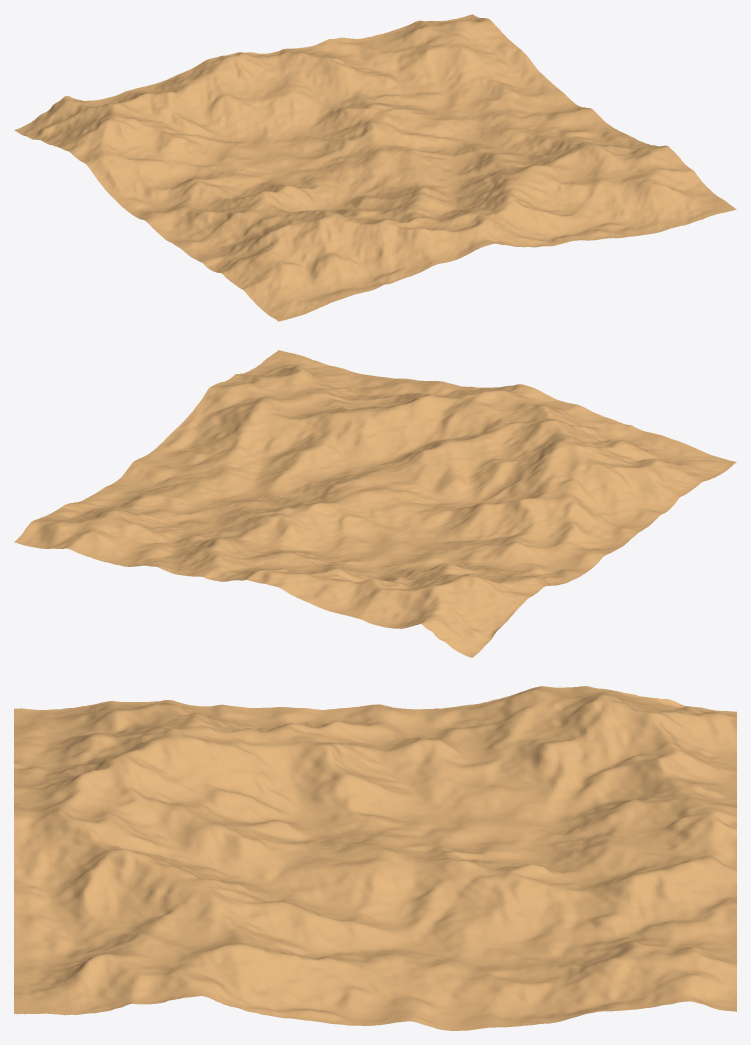
Rendered from terrain.glb.
3 renders of one model, top to bottom at view 1: azimuth 30°, elevation 25°; view 2: azimuth 150°, elevation 25°; view 3: azimuth 270°, elevation 25°, orthographic. The views are drawn at different scales.
Parts seen in each view (by area): view 1: Mesh_0.002; view 2: Mesh_0.002; view 3: Mesh_0.002.
Boxes of the visible parts, box(x1,y1,x2,y2) form: Mesh_0.002: box(14, 14, 736, 321); Mesh_0.002: box(14, 350, 736, 657); Mesh_0.002: box(14, 686, 736, 1030).
Size of the model in its own units: 10 by 0.9961 by 10.
